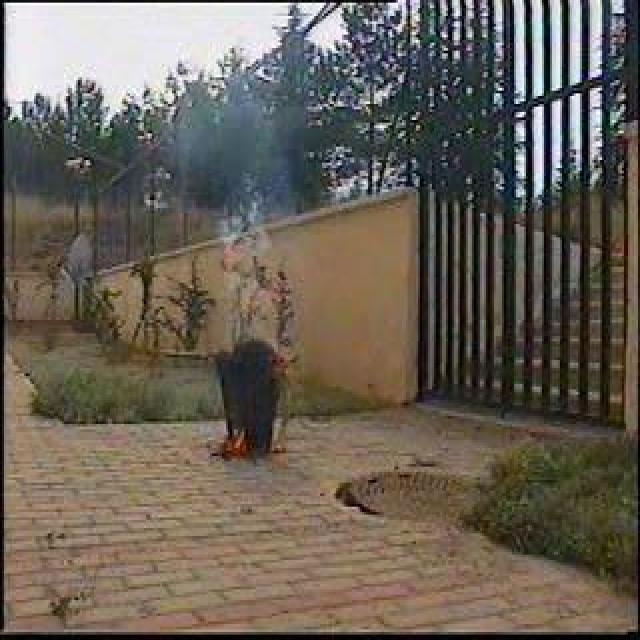fire: (222, 429, 250, 456), (257, 283, 282, 309), (218, 242, 240, 270), (272, 349, 288, 367)
